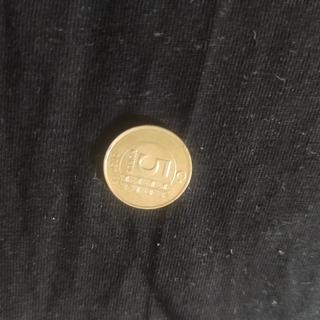5KURUS: (100, 122, 193, 211)
